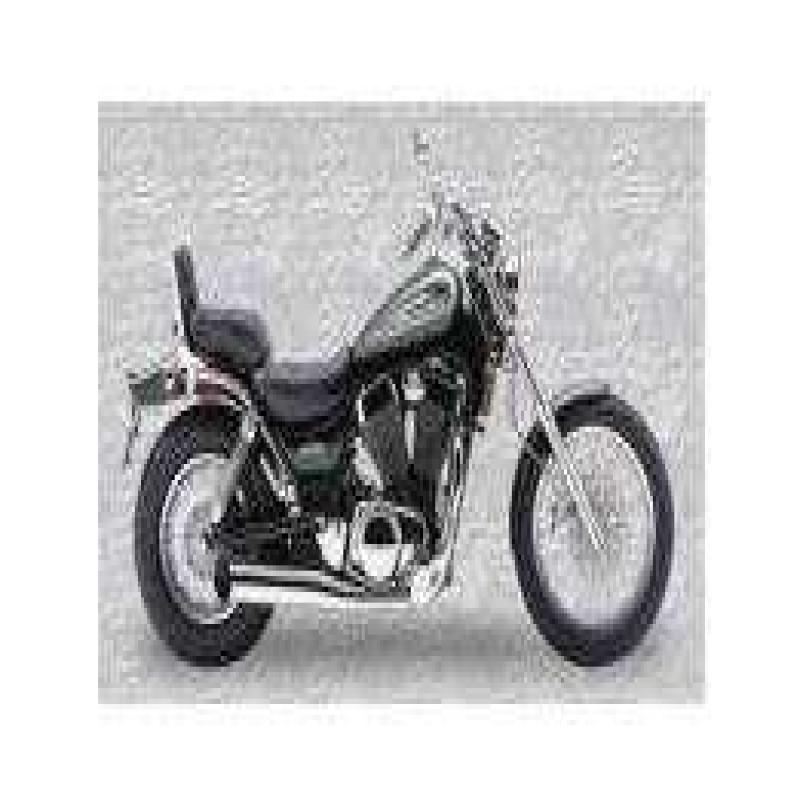bike: (103, 125, 678, 689)
